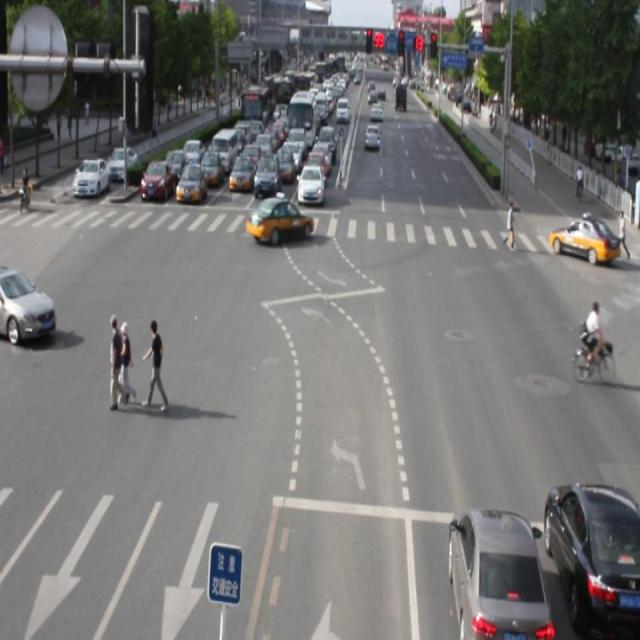car: (542, 487, 640, 640), (446, 513, 544, 640), (246, 195, 312, 244)
